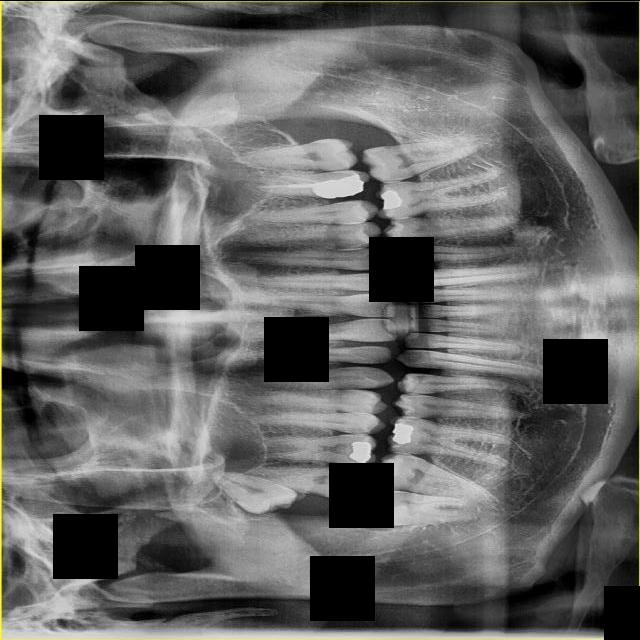71: (287, 182, 318, 187)
74: (281, 174, 320, 184), (259, 183, 289, 188)
NucleOSS Implant: (311, 175, 362, 197), (346, 435, 379, 465), (390, 422, 413, 445), (379, 187, 400, 209), (338, 473, 358, 496)
